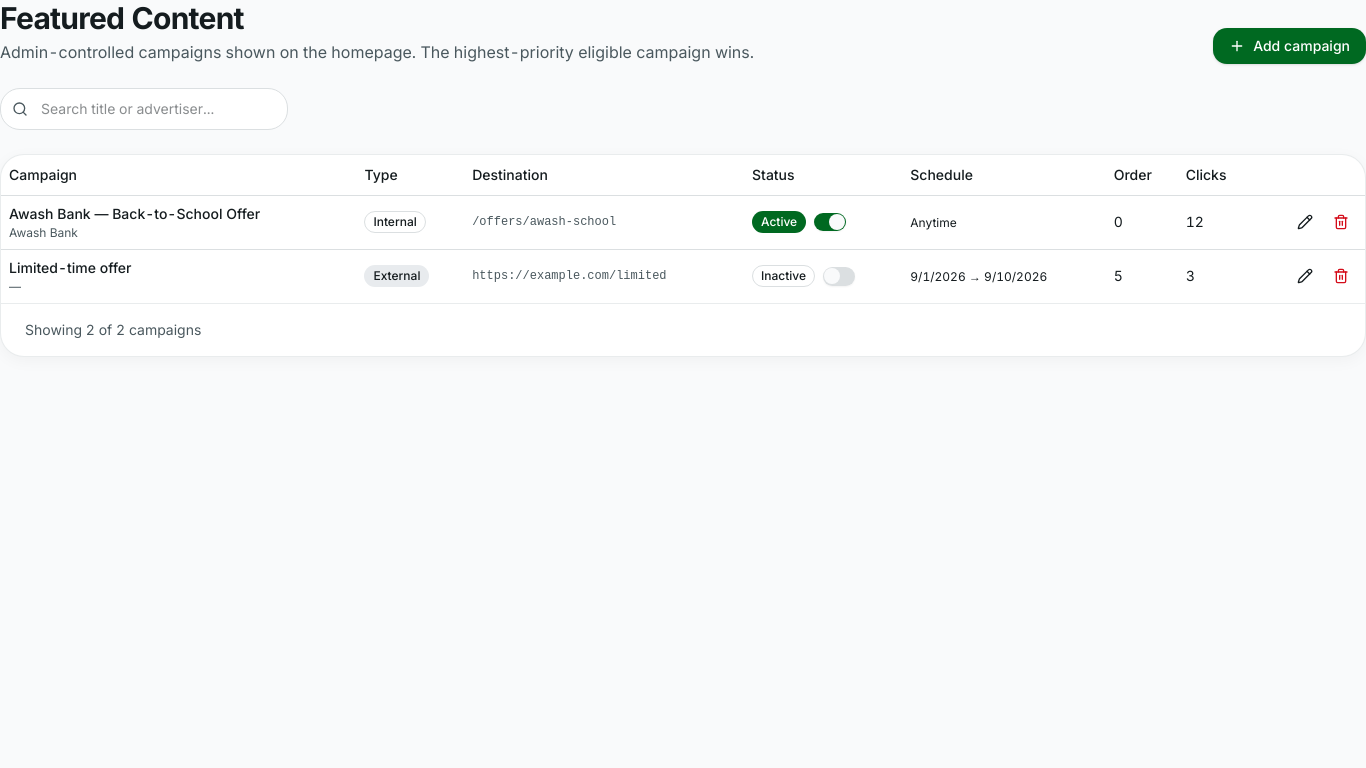
AdminFeaturedPage › pre-fills the form when editing a campaign
Click the button named "Edit Awash Bank — Back-to-School Offer": (1305, 222) [1289,206,1321,238]
(page scrolled)
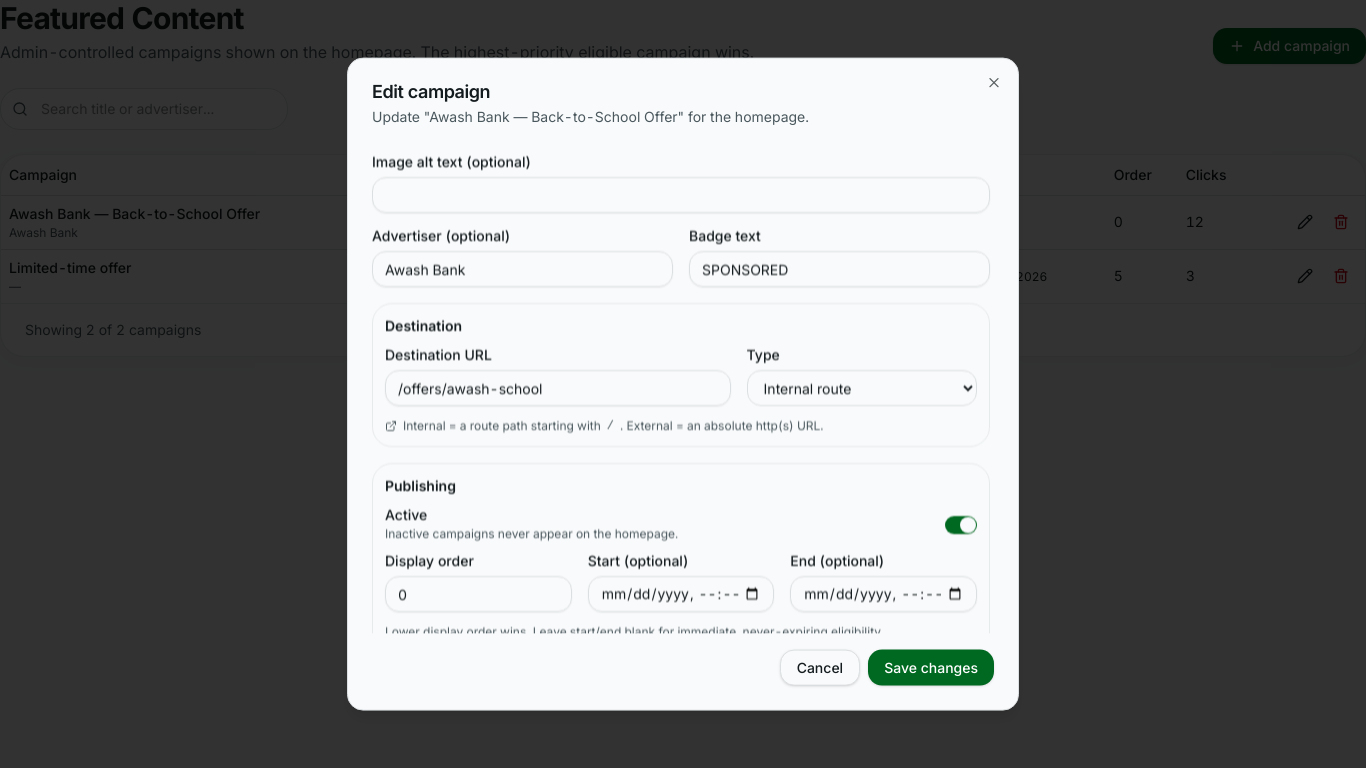
Check: the field labelled "Destination URL" holds "/offers/awash-school", box [385,370,731,406]
Check: the field labelled "Badge text" holds "SPONSORED", box [689,251,990,287]
Check: the dropdown labelled "Type" shows "Internal route", box [747,370,977,406]
